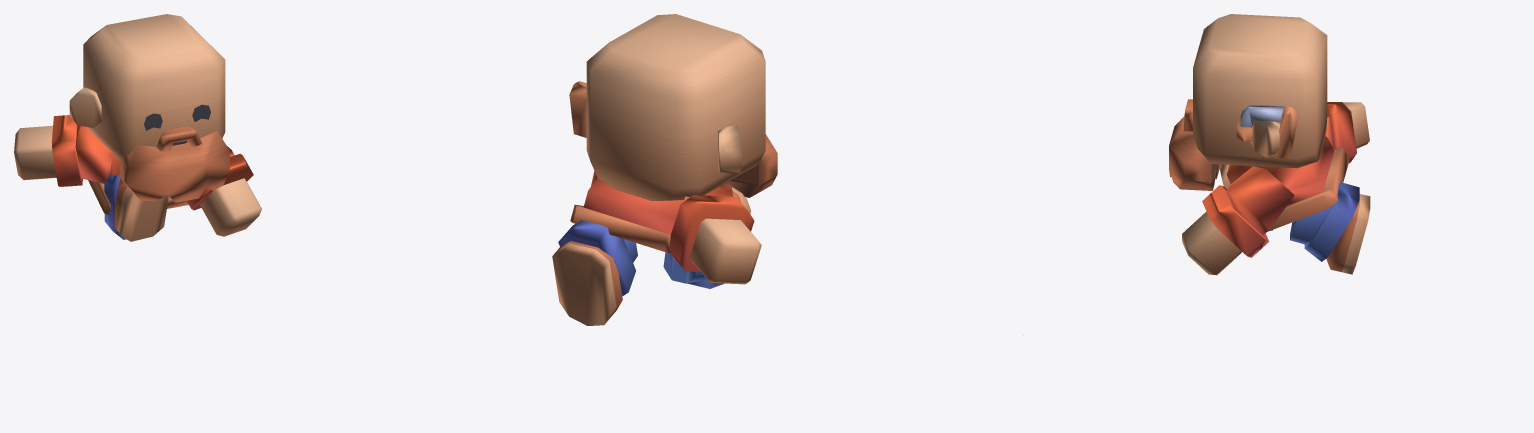
File: rival_sprint_8.glb
3 renders of one model, left to right at view 1: azimuth 30°, elevation 25°; view 2: azimuth 150°, elevation 25°; view 3: azimuth 270°, elevation 25°, orthographic. The views are drawn at different scales.
Visible parts, largest first — view 1: rival-sprint-8; view 2: rival-sprint-8; view 3: rival-sprint-8.
Part boxes in pixels (x1,y1,x2,y2): rival-sprint-8: (14,14,261,241); rival-sprint-8: (552,14,777,325); rival-sprint-8: (1169,14,1370,275).
Bounding box in the file's own units: 1.2 × 0.8028 × 1.2.
Materials: 1 (1 with a texture image).
